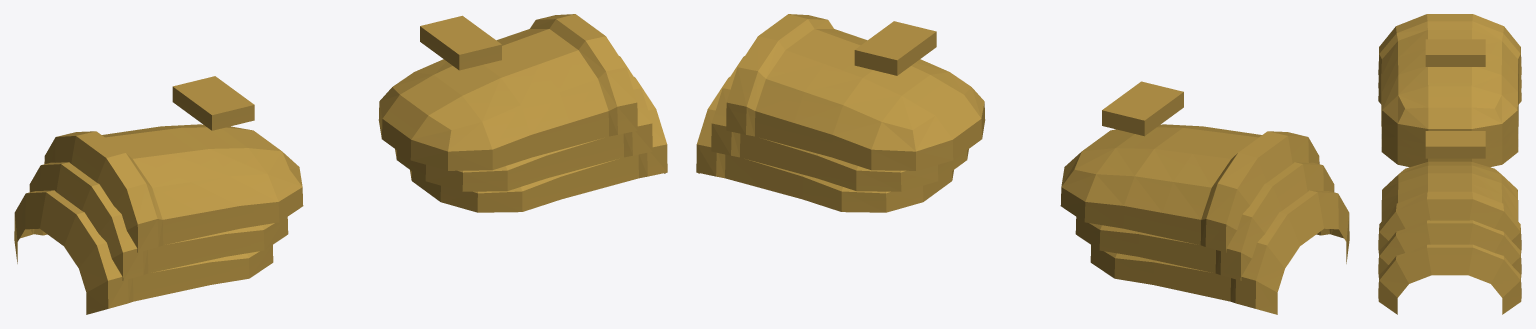
The model's file is enano_hombreras_3.glb.
3 views of the same model, side by side, from view 1: azimuth 30°, elevation 25°; view 2: azimuth 150°, elevation 25°; view 3: azimuth 270°, elevation 25° (orthographic). The views are drawn at different scales.
Visible parts, largest first — view 1: enano_hombreras_3; view 2: enano_hombreras_3; view 3: enano_hombreras_3.
Boxes of the visible parts, x1,y1,x2,y2 form: enano_hombreras_3: [14, 14, 667, 314]; enano_hombreras_3: [696, 14, 1349, 314]; enano_hombreras_3: [1378, 14, 1521, 314].
Bounding box in the file's own units: 1.36 × 0.3386 × 0.3838.
1 material, 1 textured.
